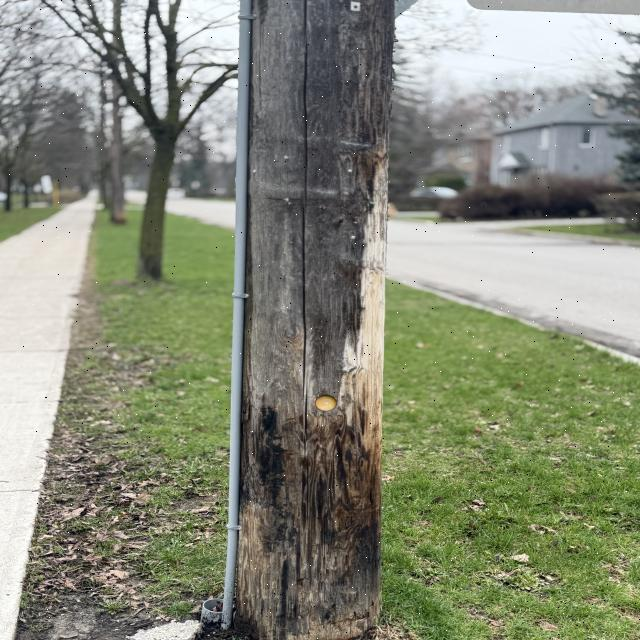Electrical Pole: (210, 0, 406, 639)
